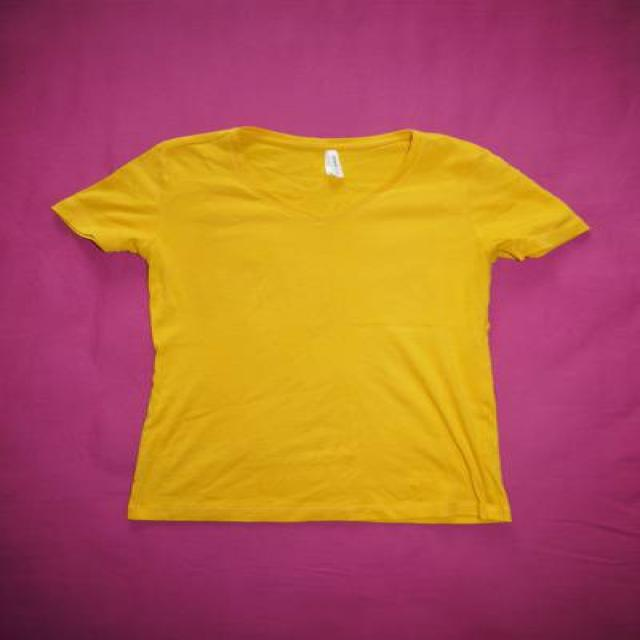shirt: (50, 125, 591, 524)
